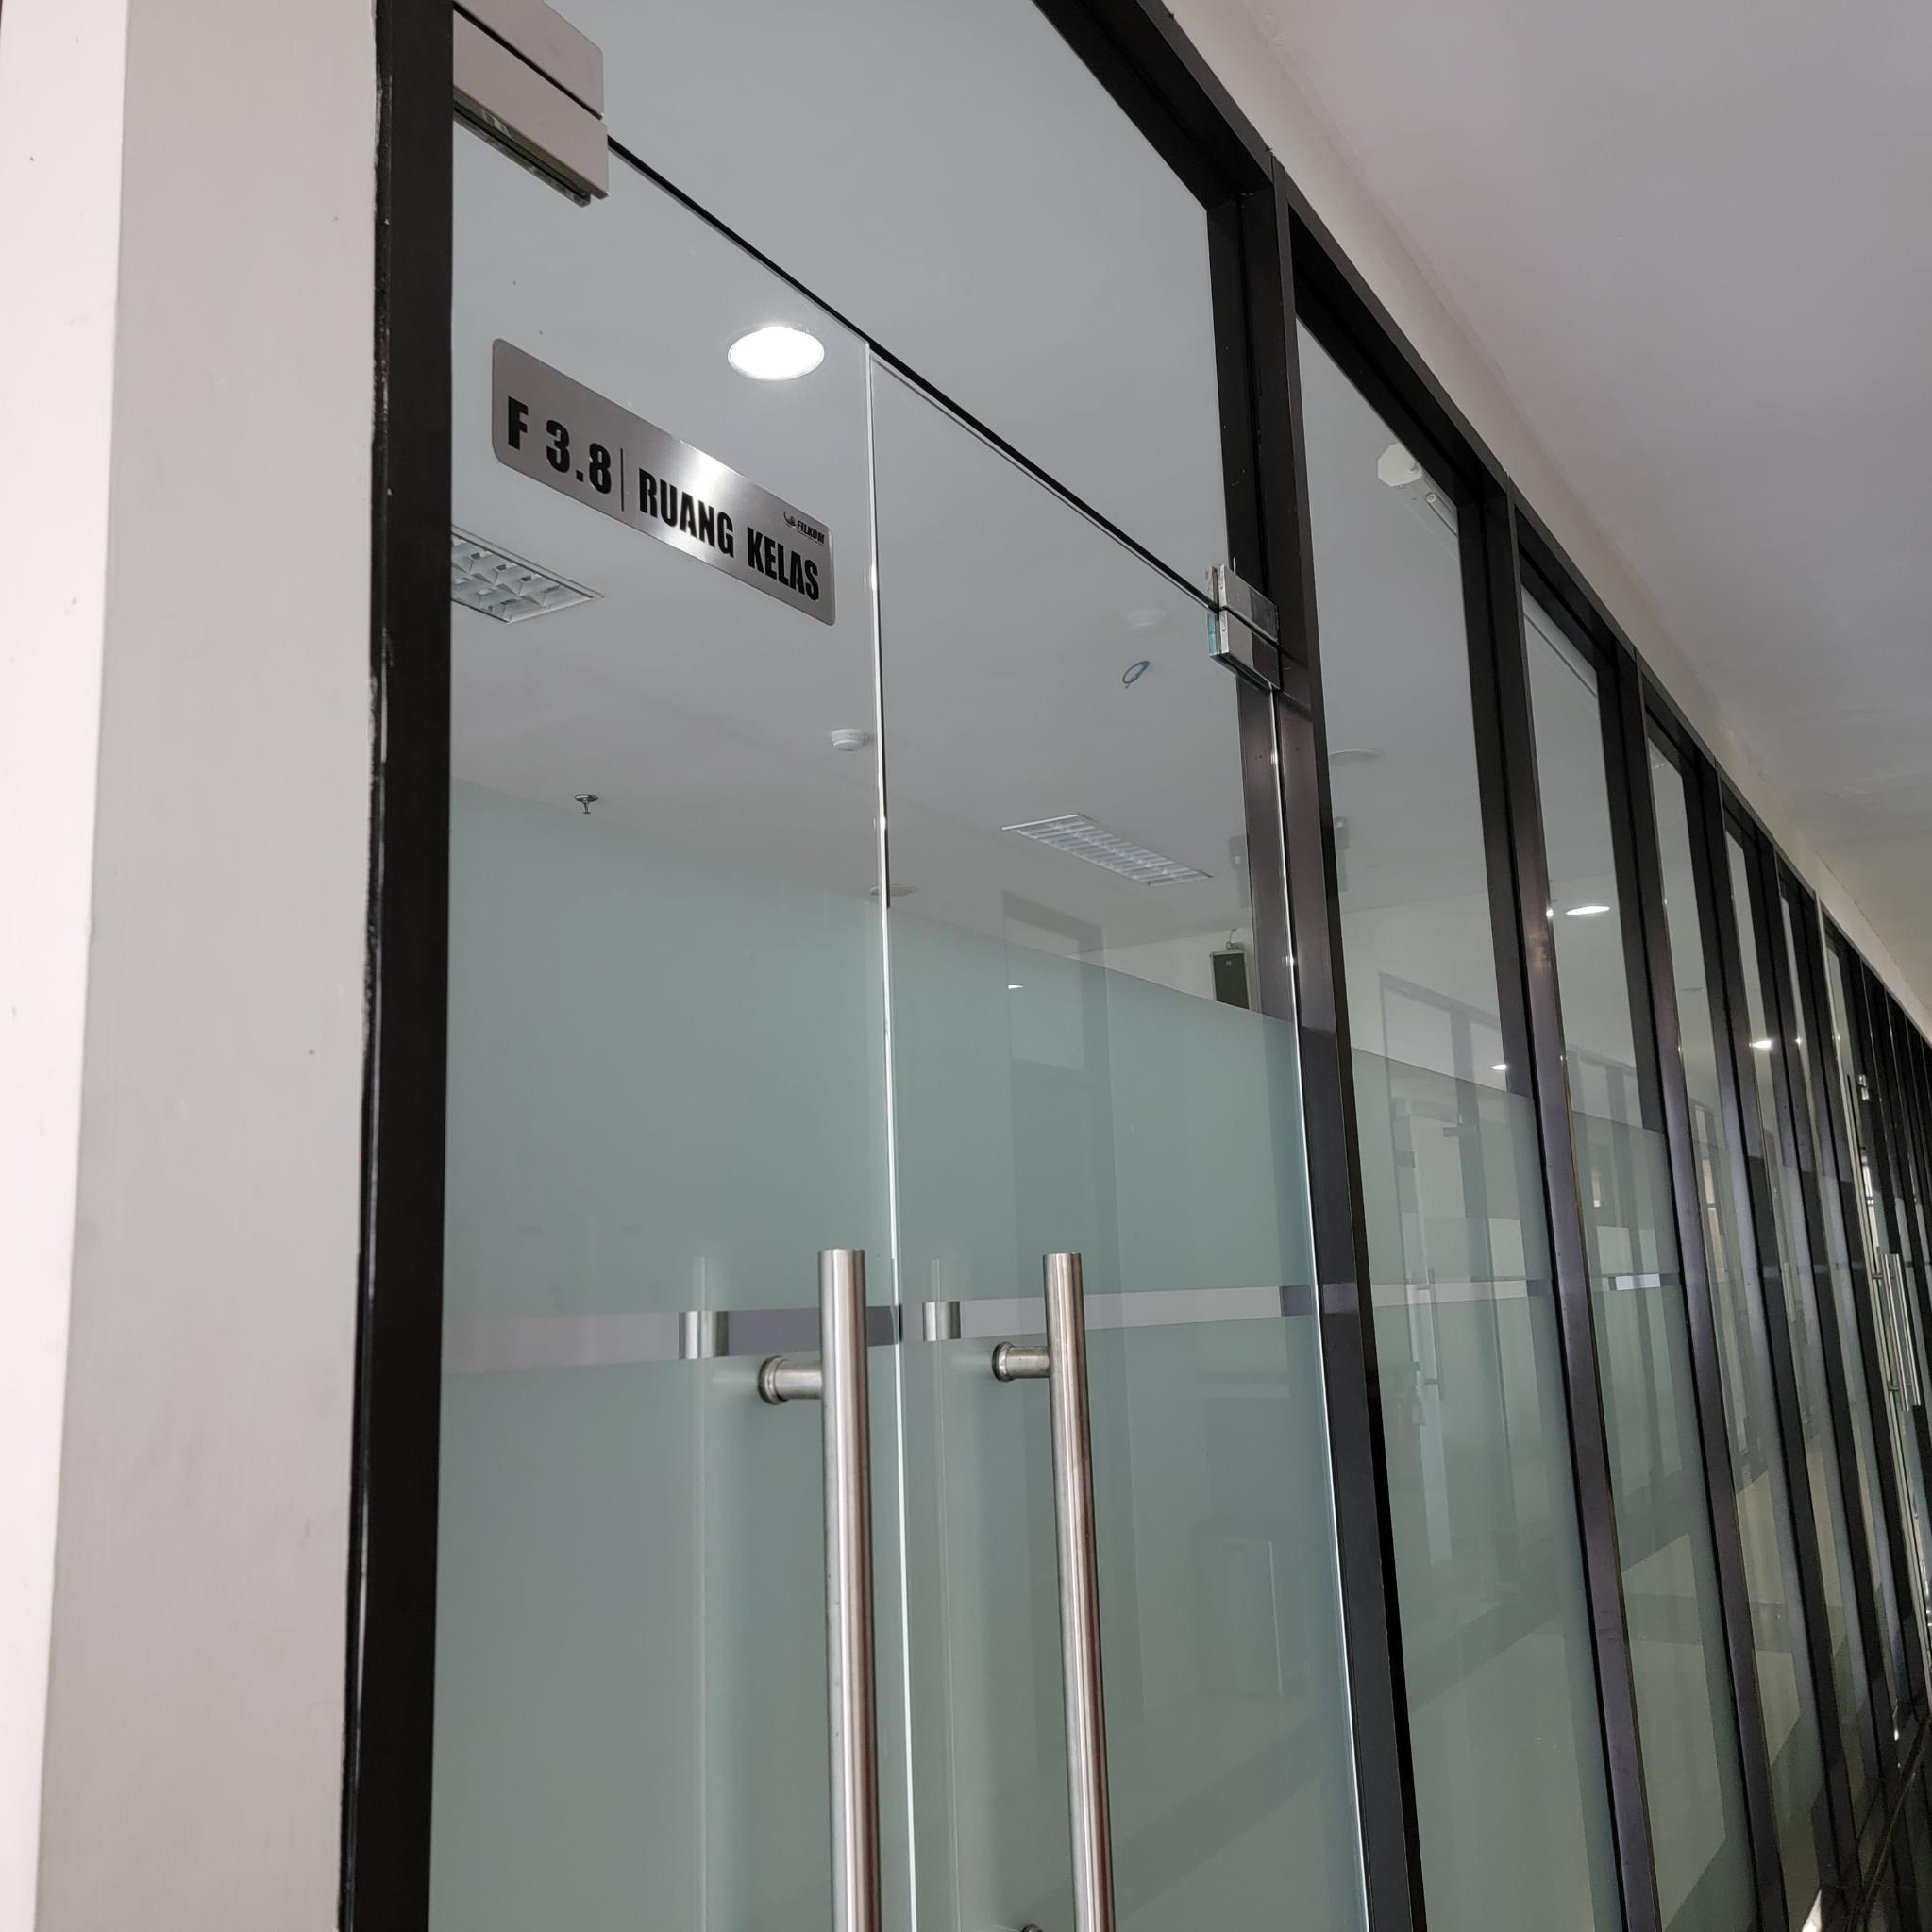plate: (492, 334, 835, 630)
